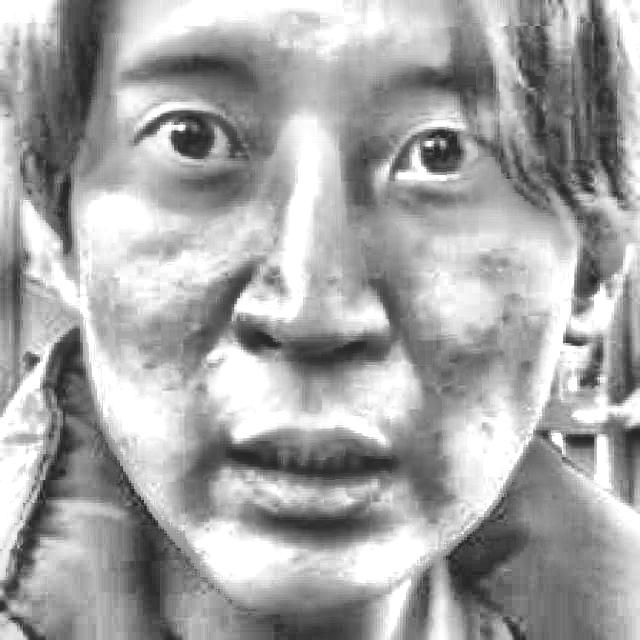fear: (106, 28, 561, 560)
